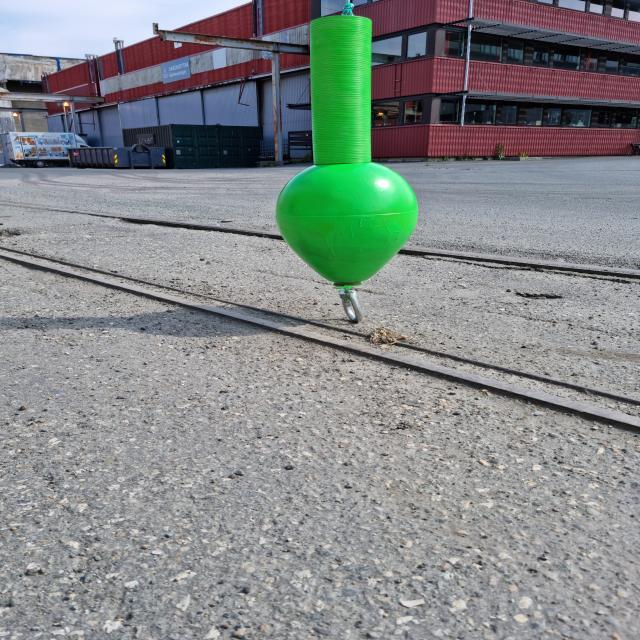green: (273, 15, 420, 286)
